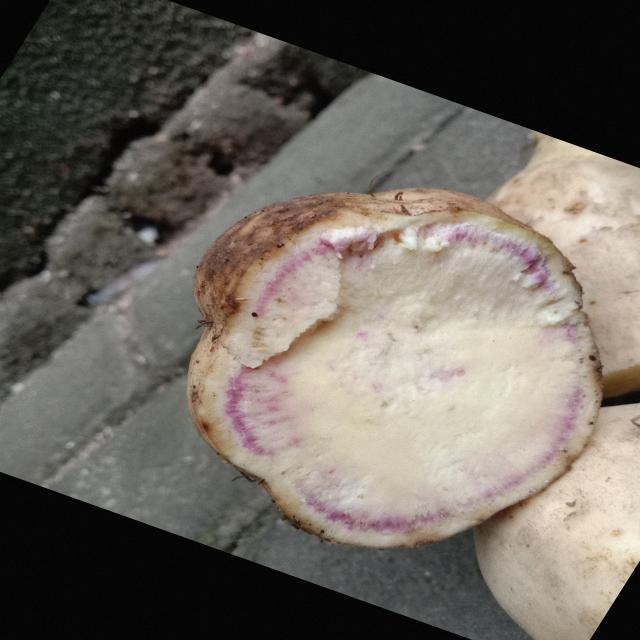Healthy Sweet Potato: (188, 212, 600, 548)
